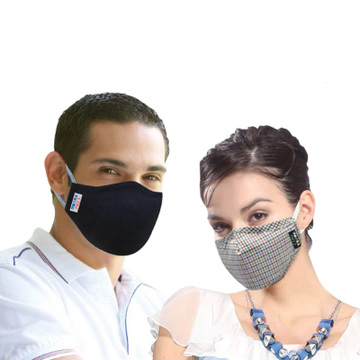face_mask: (69, 122, 165, 249), (206, 172, 295, 287)
